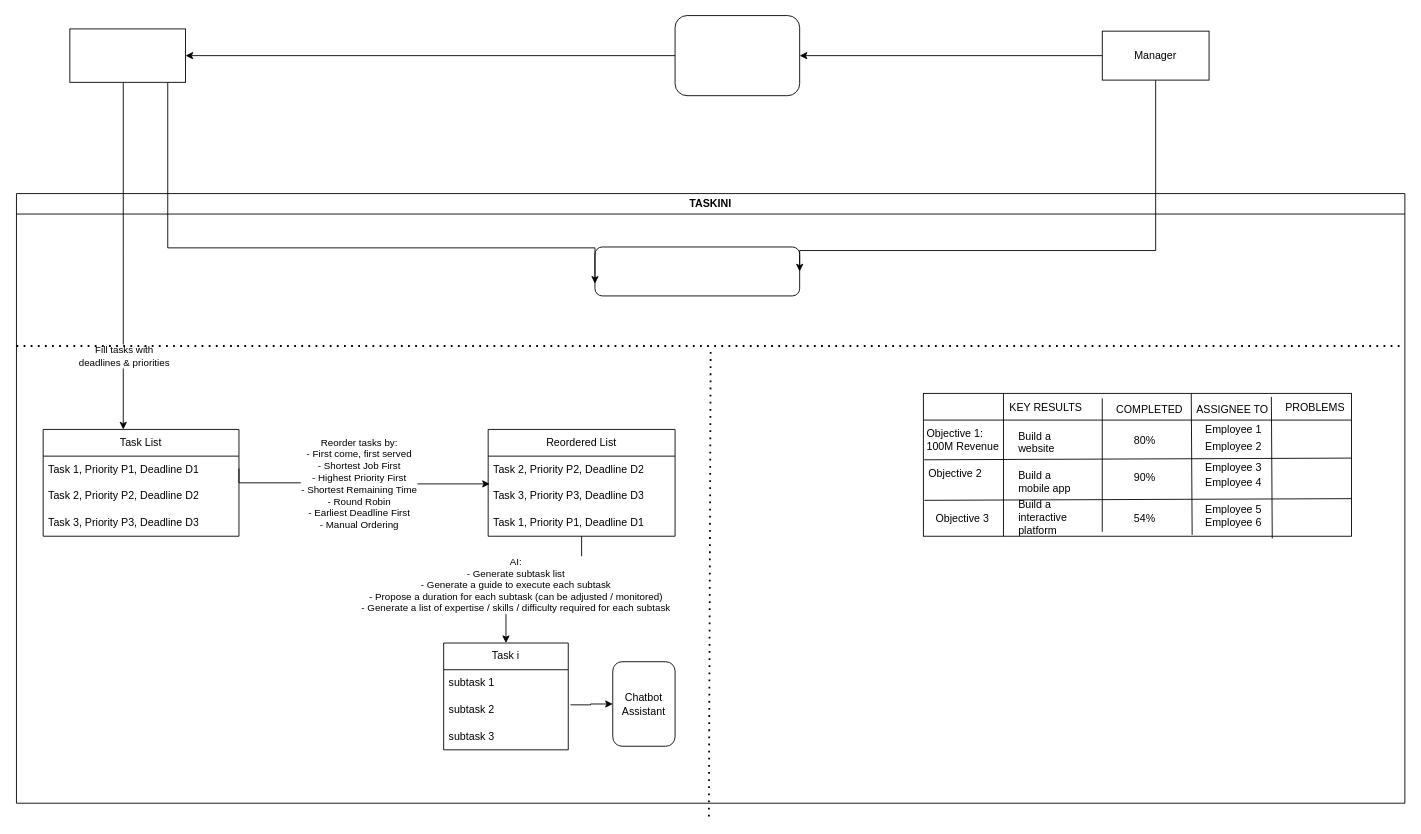
This 1421x834 diagram has some shape labels left out. The centre of each missing label's shape, as x and y in pixels:
"Assign Tasks through the Company's Task Management Software" belongs at pixel 737 55.
"Configure Workspace Options / Tools" belongs at pixel 697 271.
"Employee" belongs at pixel 127 55.
